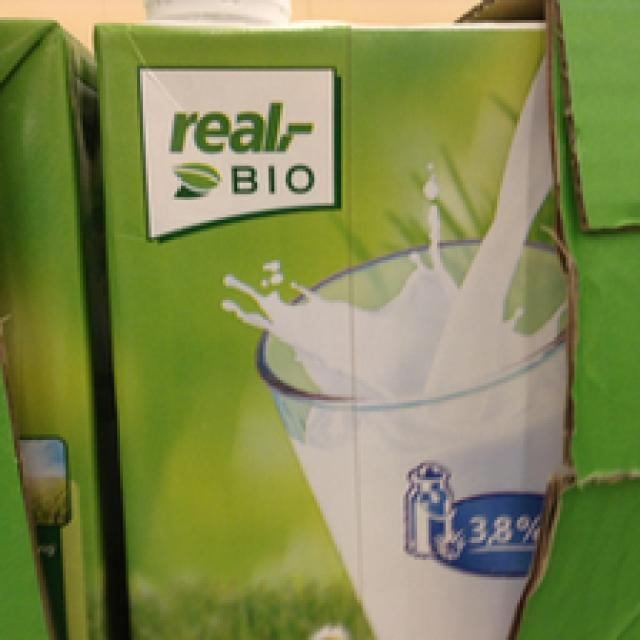groceries: (83, 0, 580, 637)
